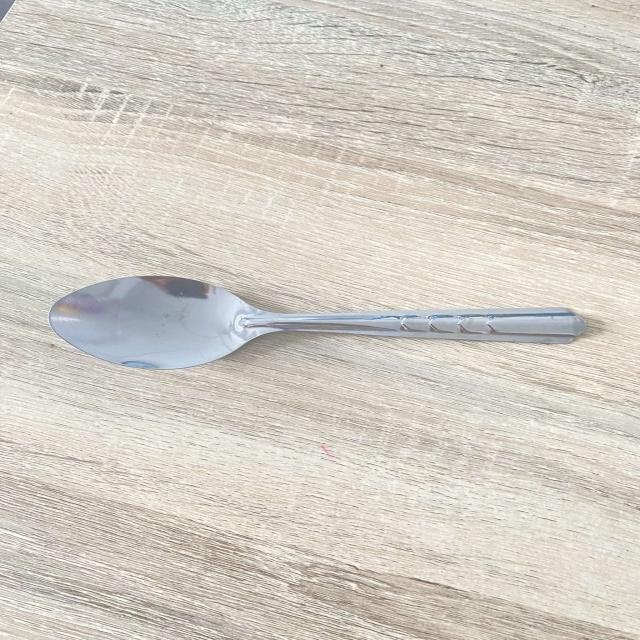spoon: (42, 269, 617, 376)
